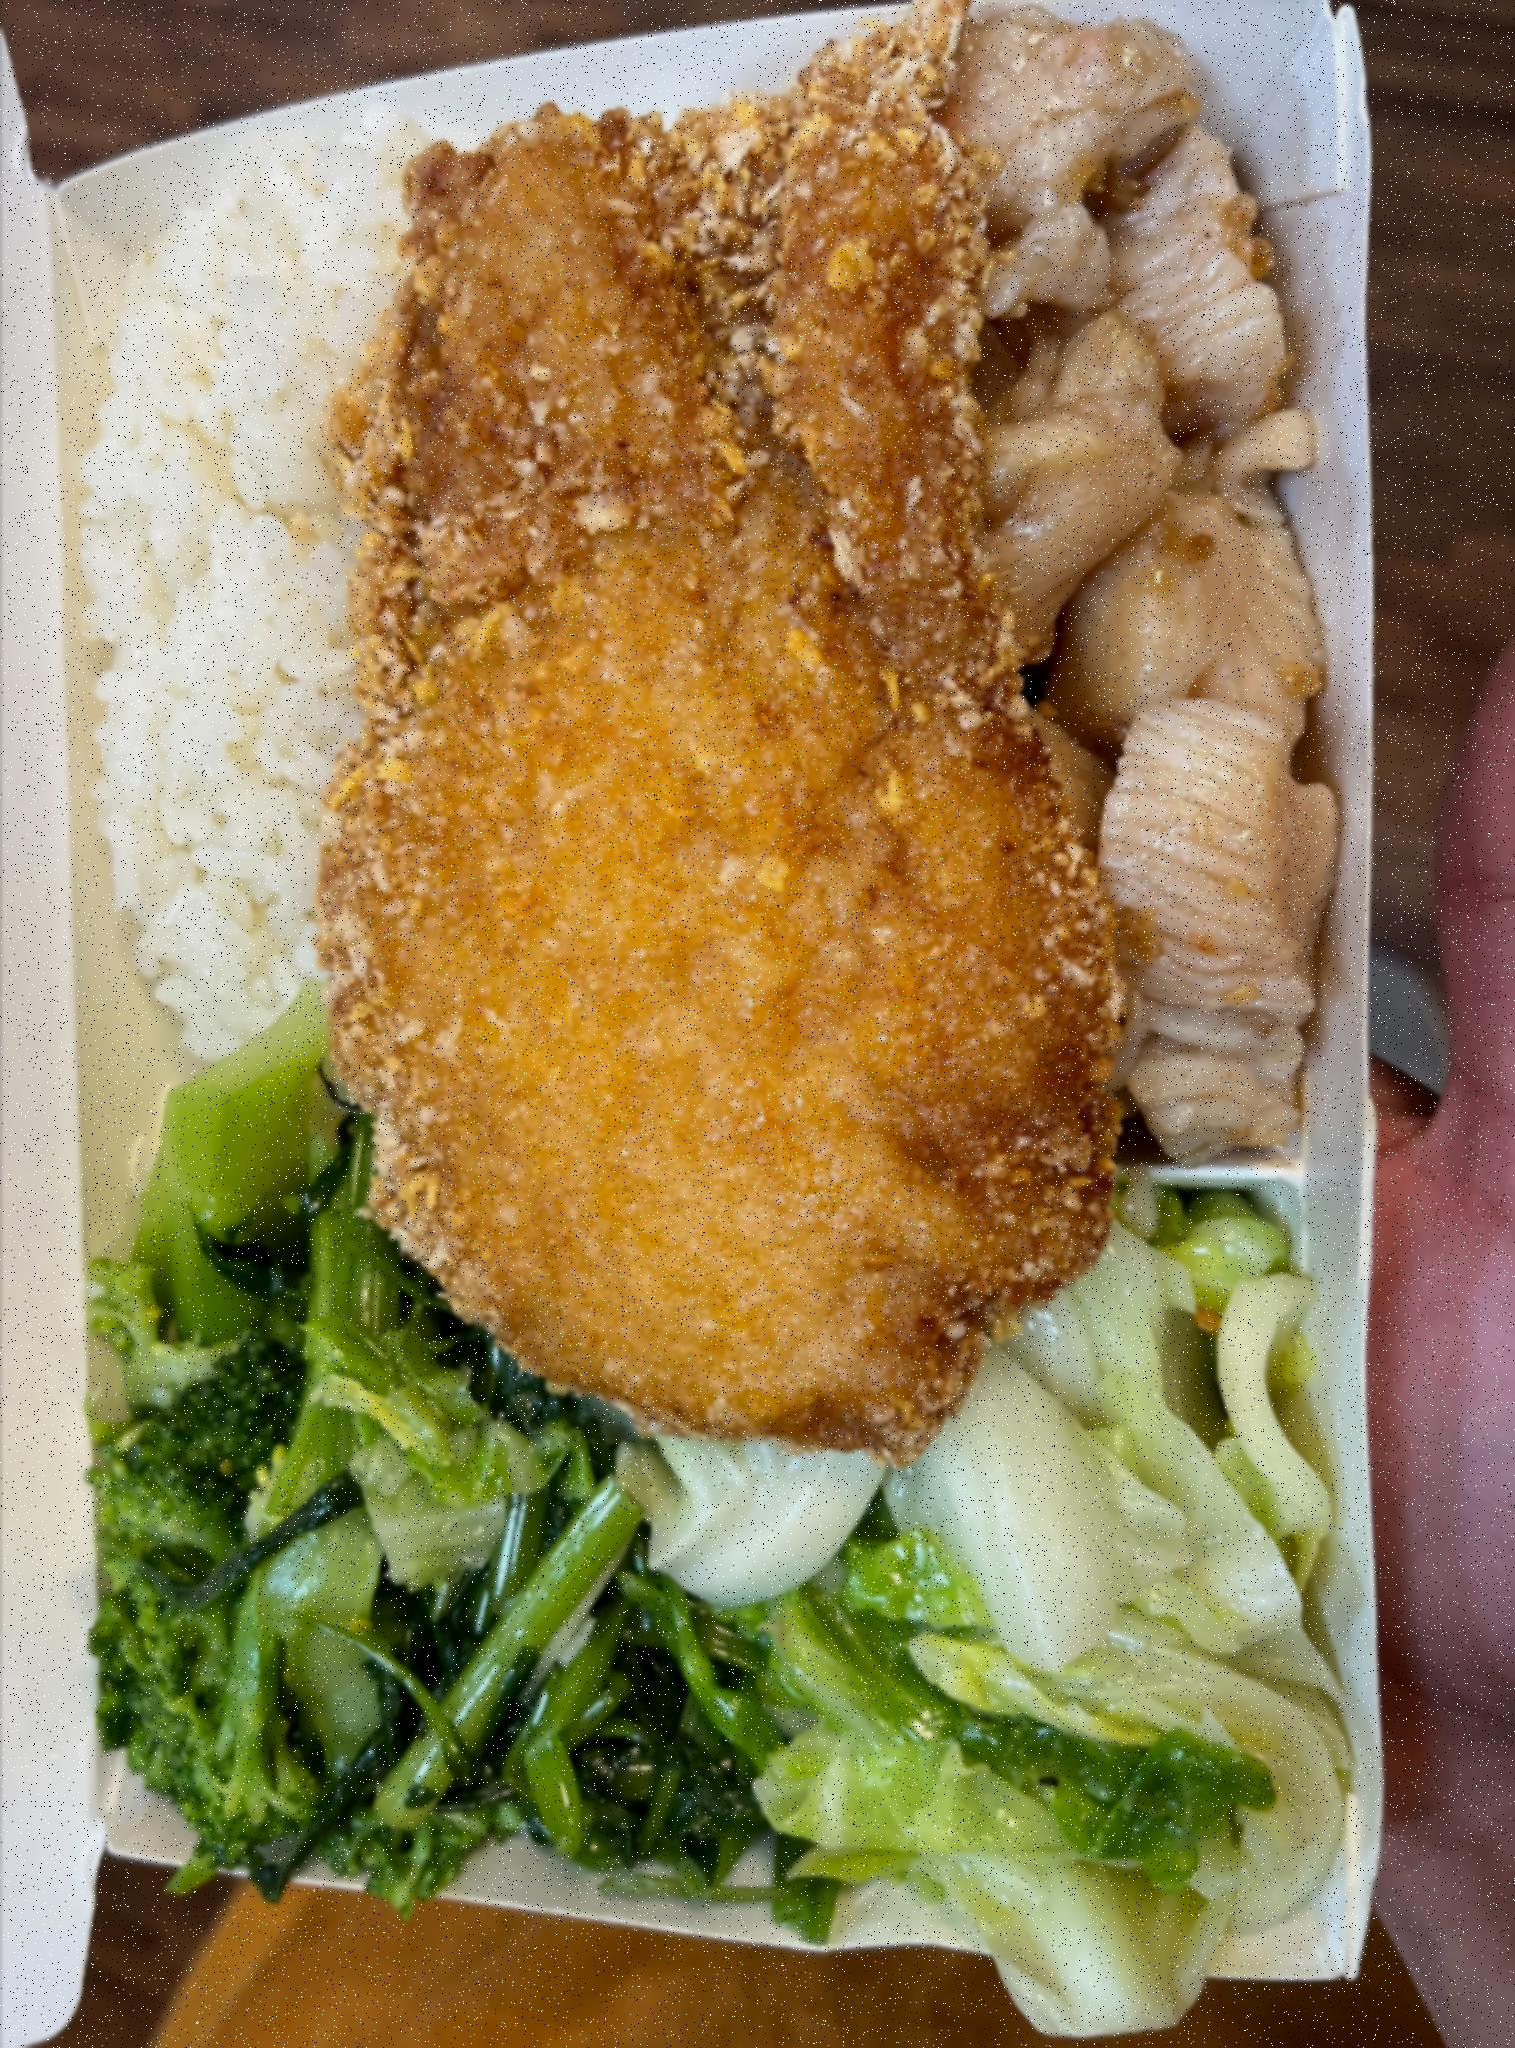big grilled chicken leg: (15, 7, 1431, 2013)
big herbal chicken leg: (58, 173, 420, 1089)
braised fish fillet: (56, 1072, 798, 1918), (785, 1199, 1325, 2027)
braised pork: (328, 126, 1128, 1456), (944, 30, 1360, 1150)
